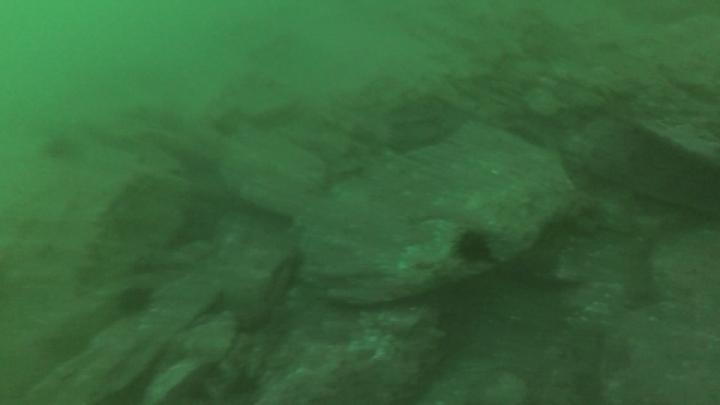echinus: (452, 228, 494, 266), (114, 283, 155, 318), (40, 131, 81, 164)
